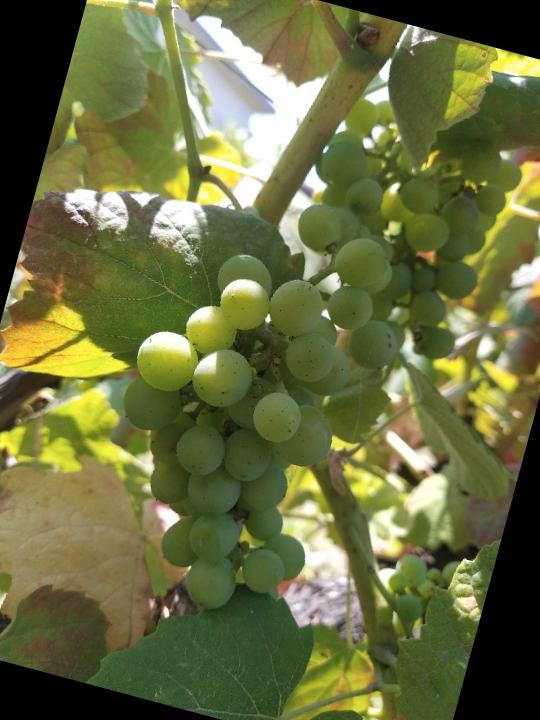grape: (74, 187, 426, 644)
